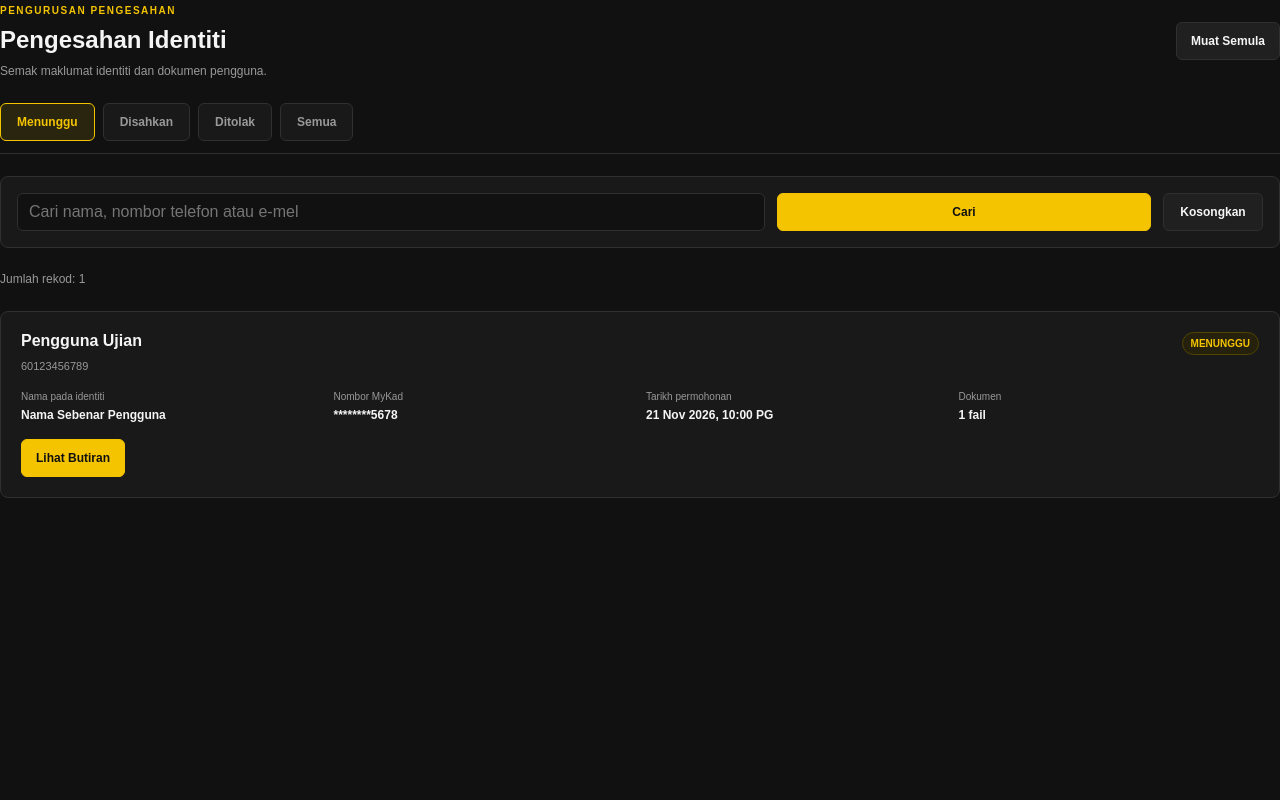
Test: IdentityVerificationsPage race protection › tidak memaparkan butiran lama selepas panel ditutup
expect the heading "Pengguna Ujian" is shown: met, box x1=21 y1=332 x2=142 y2=350
Click the button "Lihat Butiran".
click(73, 458)  # box x1=21 y1=439 x2=125 y2=477
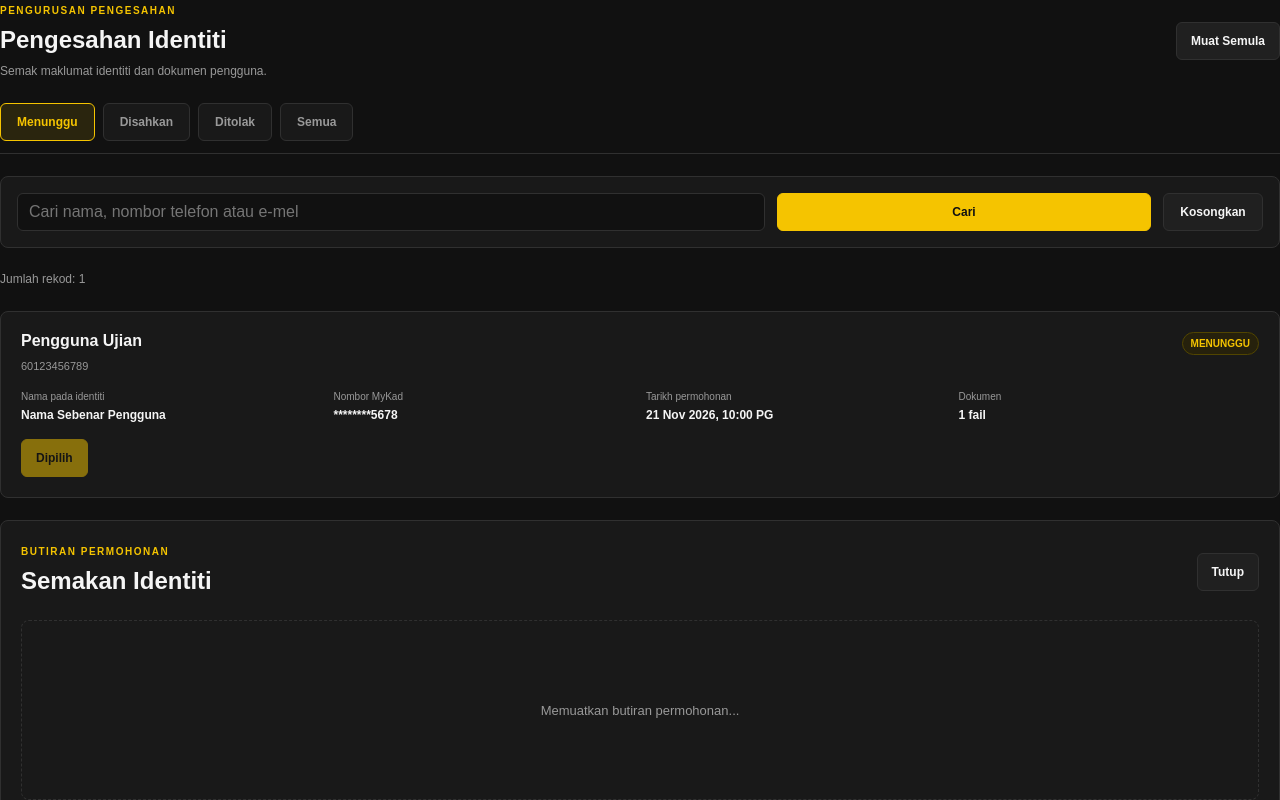
expect the text "Memuatkan butiran permohonan..." is shown: met, box x1=21 y1=620 x2=1259 y2=799
Click the button "Tutup".
click(1228, 572)  # box x1=1197 y1=553 x2=1259 y2=591
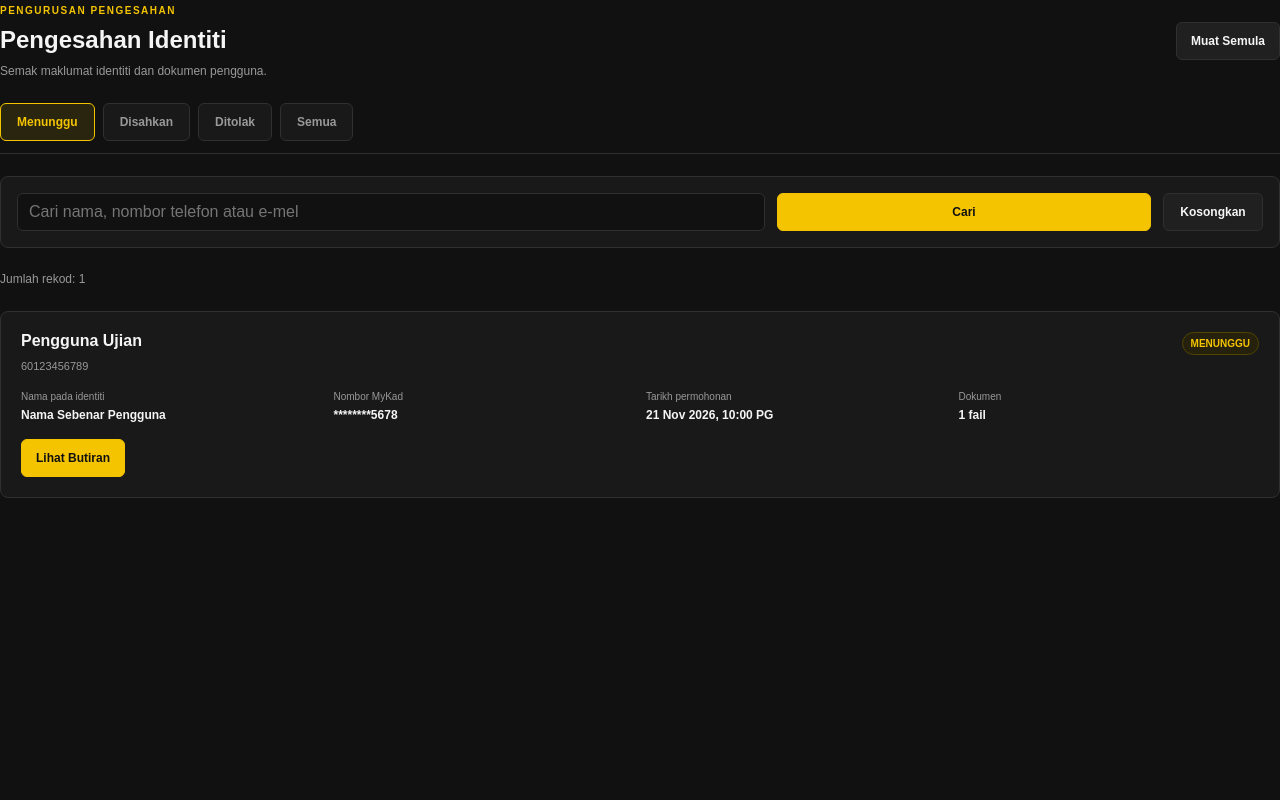
expect the heading "Semakan Identiti" is gone: met
